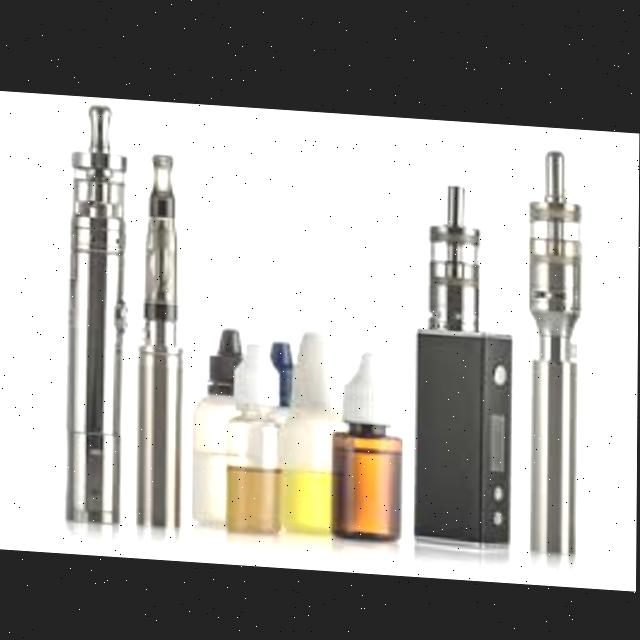vape: (414, 173, 514, 542), (65, 102, 125, 526), (525, 140, 581, 545), (140, 142, 188, 527)
